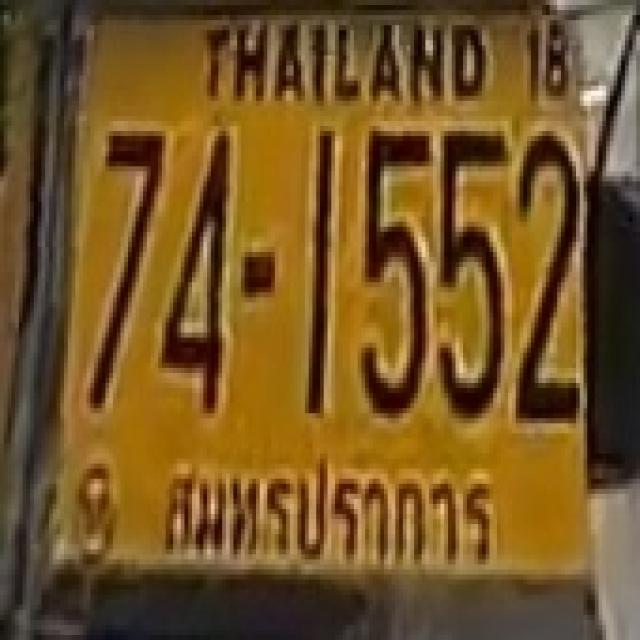2: (516, 131, 580, 398)
4: (158, 128, 230, 410)
5: (435, 126, 506, 413)
7: (86, 128, 162, 406), (94, 128, 162, 396), (98, 129, 162, 345), (96, 128, 164, 315), (102, 126, 162, 297)
SPK: (148, 447, 511, 592)
